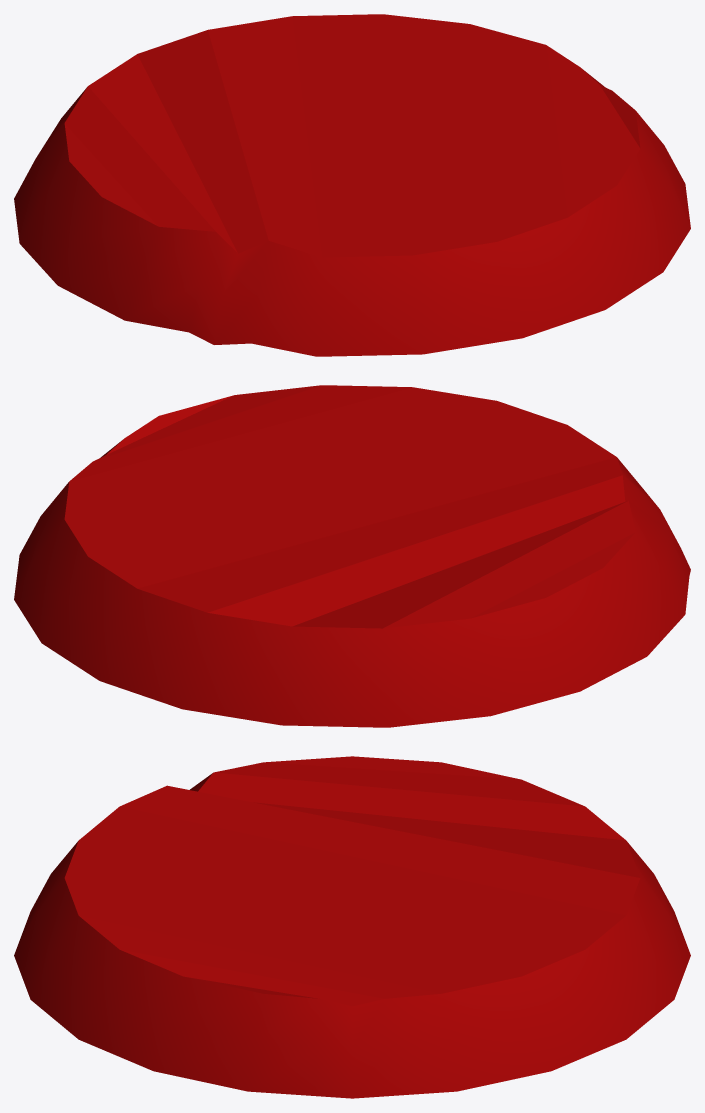
The model's file is TomaSlice3.fbx.
The picture shows the model from 3 angles, top to bottom: view 1: azimuth 30°, elevation 25°; view 2: azimuth 150°, elevation 25°; view 3: azimuth 270°, elevation 25°; orthographic projection.
Visible parts, largest first — view 1: TomatoSlice3; view 2: TomatoSlice3; view 3: TomatoSlice3.
Part boxes in pixels (x1=…): TomatoSlice3: x1=14, y1=14, x2=690, y2=356; TomatoSlice3: x1=14, y1=385, x2=690, y2=727; TomatoSlice3: x1=14, y1=756, x2=690, y2=1098.
Size of the model in its own units: 1.9 by 0.2603 by 1.9.
